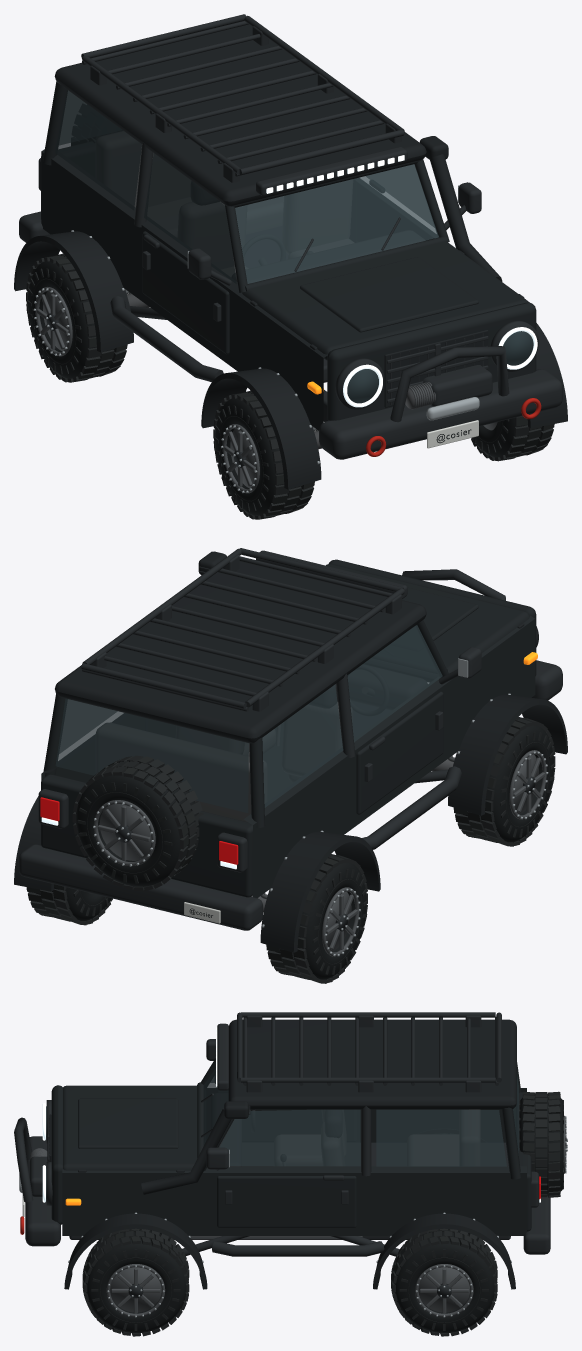
The model's file is black_jeep.glb.
3 views of the same model, one above another, from view 1: azimuth 30°, elevation 25°; view 2: azimuth 150°, elevation 25°; view 3: azimuth 270°, elevation 25° (orthographic). The views are drawn at different scales.
Visible parts, largest first — view 1: BodyStatic, GlassPanels, InteriorAssembly, WheelFrontLGeometry, WheelRearLGeometry, WheelFrontRGeometry; view 2: BodyStatic, GlassPanels, InteriorAssembly, RearSpareGeometry, WheelFrontLGeometry, WheelRearLGeometry, WheelRearRGeometry; view 3: BodyStatic, GlassPanels, WheelRearRGeometry, WheelFrontRGeometry, InteriorAssembly, RearSpareGeometry.
Boxes of the visible parts, <box> form: BodyStatic: <box>14,14,567,489</box>; GlassPanels: <box>54,90,438,283</box>; InteriorAssembly: <box>96,131,425,283</box>; WheelFrontLGeometry: <box>213,390,314,519</box>; WheelRearLGeometry: <box>26,253,127,382</box>; WheelFrontRGeometry: <box>471,416,554,461</box>; BodyStatic: <box>14,548,567,952</box>; GlassPanels: <box>55,625,442,812</box>; InteriorAssembly: <box>96,664,427,822</box>; RearSpareGeometry: <box>72,755,203,890</box>; WheelFrontLGeometry: <box>453,717,555,846</box>; WheelRearLGeometry: <box>266,854,367,983</box>; WheelRearRGeometry: <box>26,884,112,925</box>; BodyStatic: <box>14,1012,550,1289</box>; GlassPanels: <box>203,1068,518,1166</box>; WheelRearRGeometry: <box>391,1228,497,1336</box>; WheelFrontRGeometry: <box>82,1228,189,1336</box>; InteriorAssembly: <box>211,1093,480,1166</box>; RearSpareGeometry: <box>519,1091,567,1197</box>.
Size of the model in its own units: 2.51 by 2.33 by 4.96.
